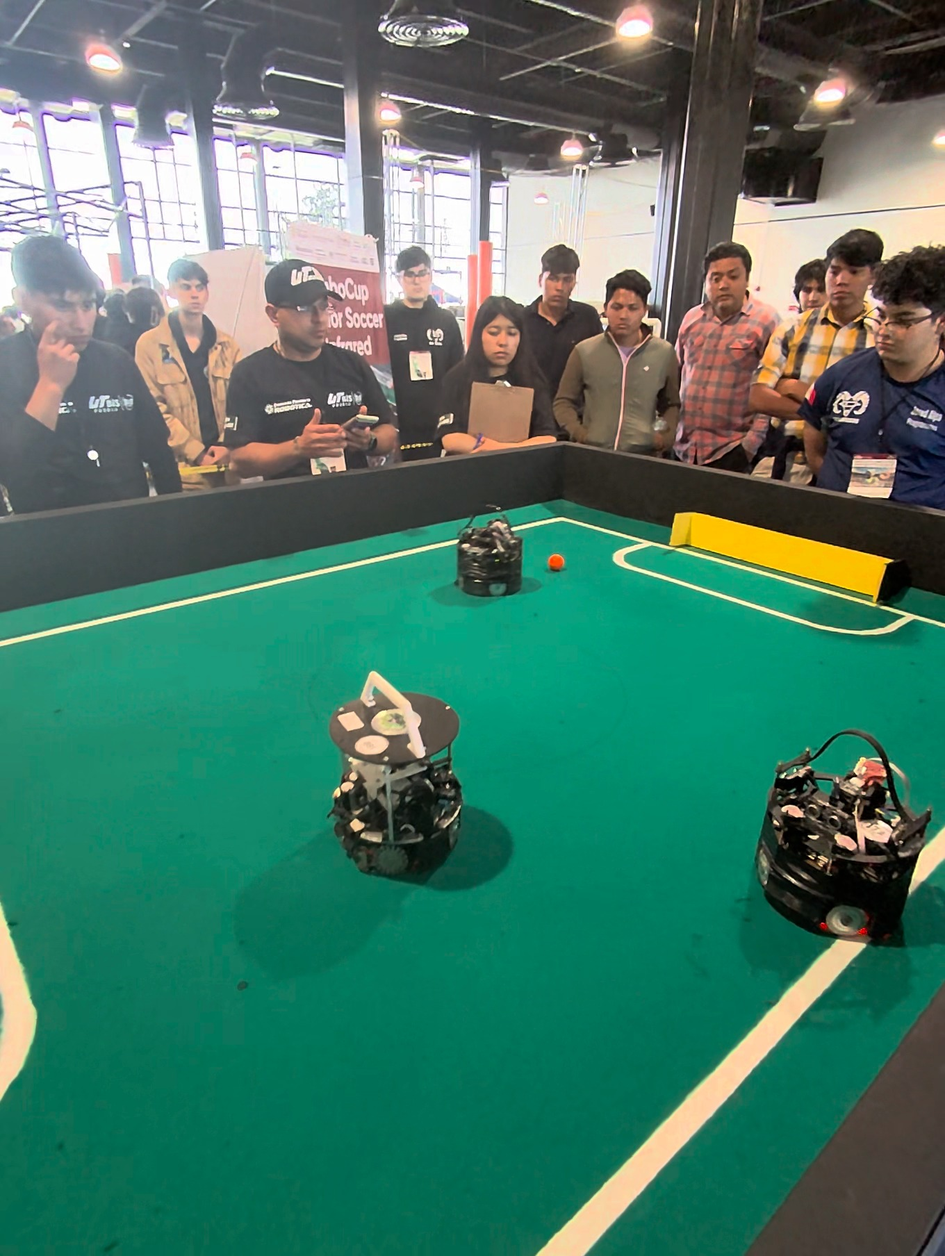Robot: (757, 719, 935, 955), (317, 650, 474, 896), (452, 507, 523, 603)
pelota: (548, 553, 566, 571)
